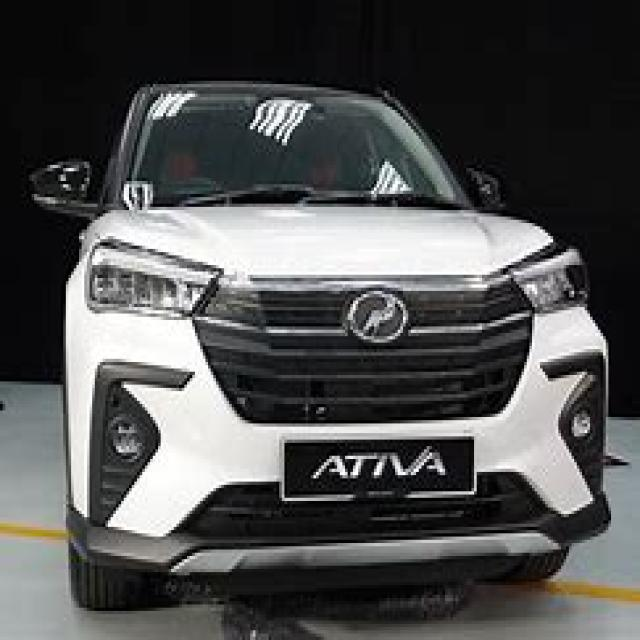PeroduaAtiva: (26, 74, 616, 611)
